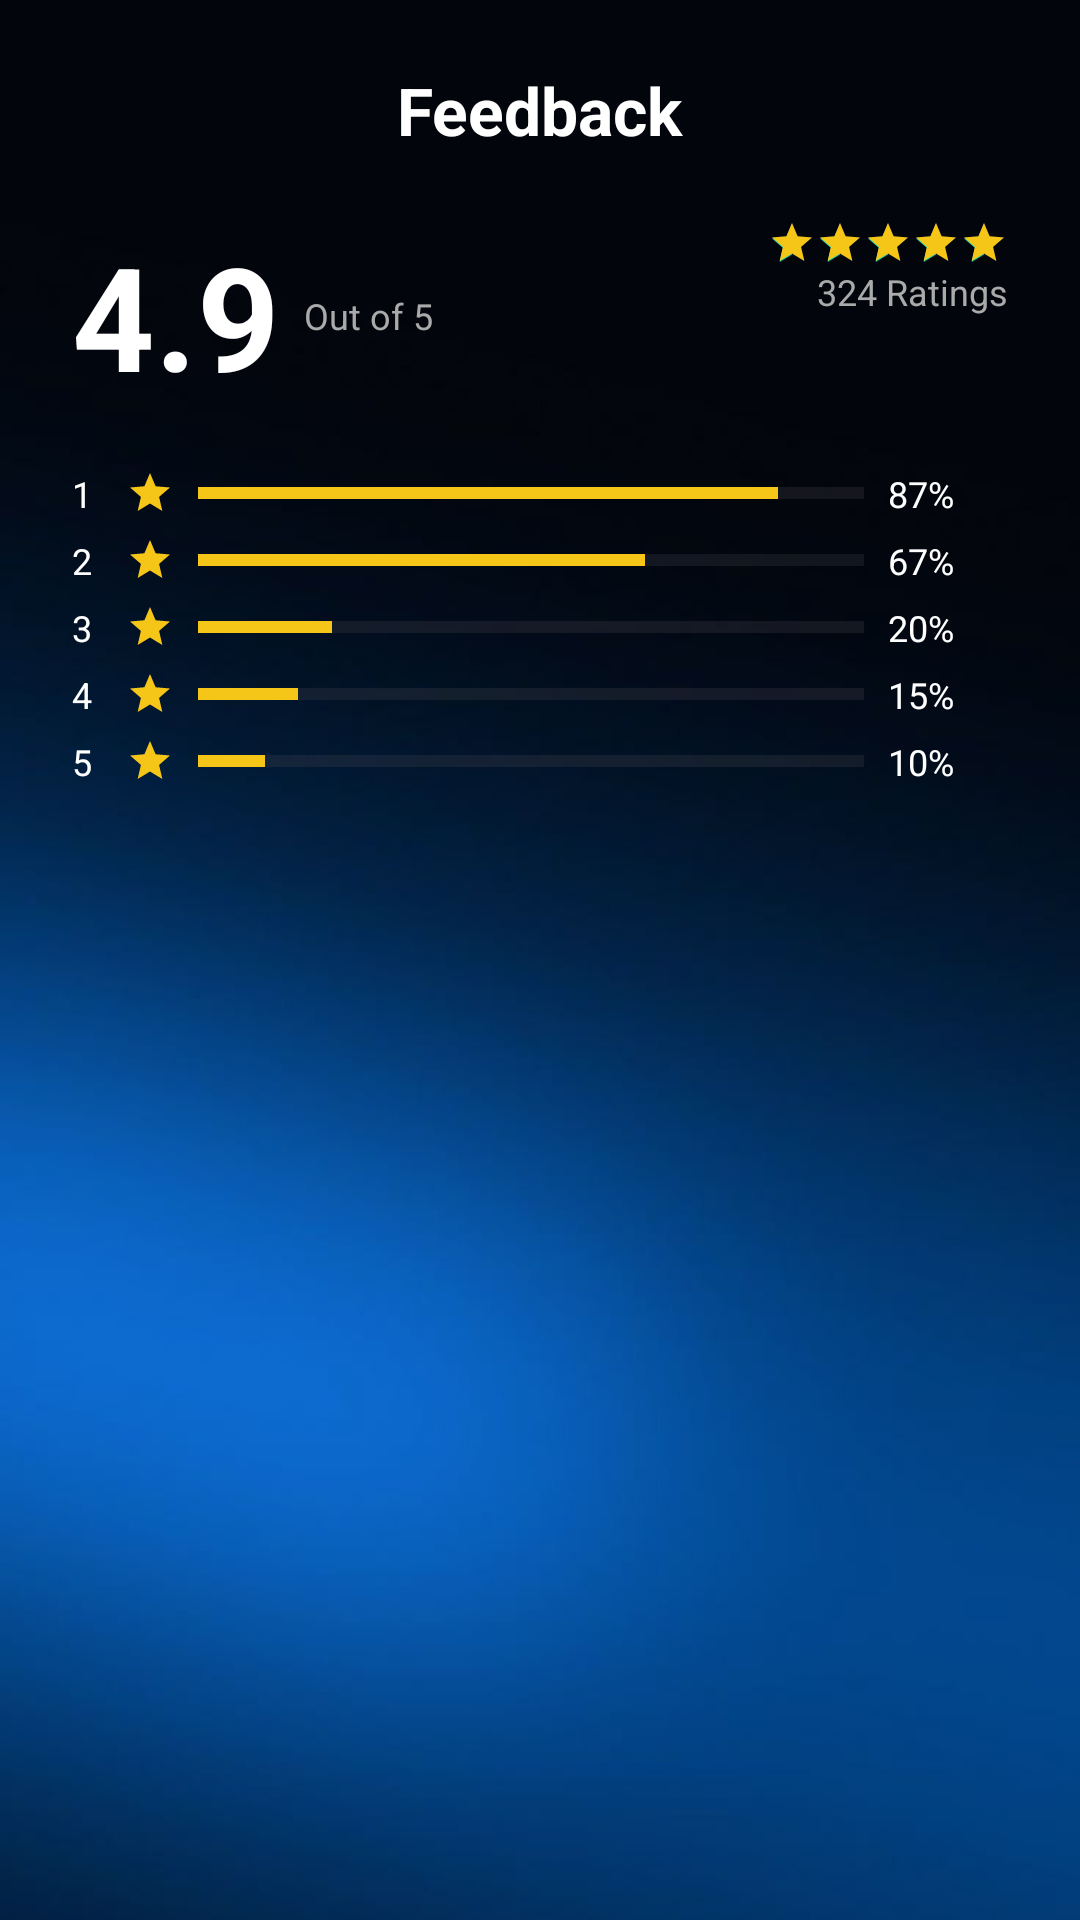

Where to tap for icons on this 1080 × 1920 app screen, as point (x, y):
star: point (150, 492), point (150, 559), point (150, 626), point (150, 693), point (150, 760)
